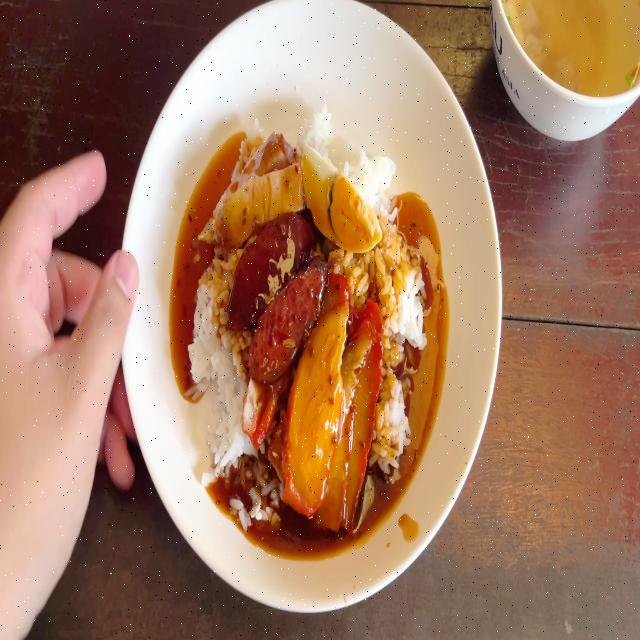boiled_egg: (299, 139, 378, 256)
chainese_sausage: (229, 214, 331, 372)
crispy_pork: (208, 130, 296, 233)
red_pork: (288, 289, 381, 518)
red_pork_and_crispy_pork: (188, 109, 433, 523)
rice: (384, 212, 419, 467), (190, 269, 228, 394), (204, 366, 239, 472), (362, 128, 392, 202)
